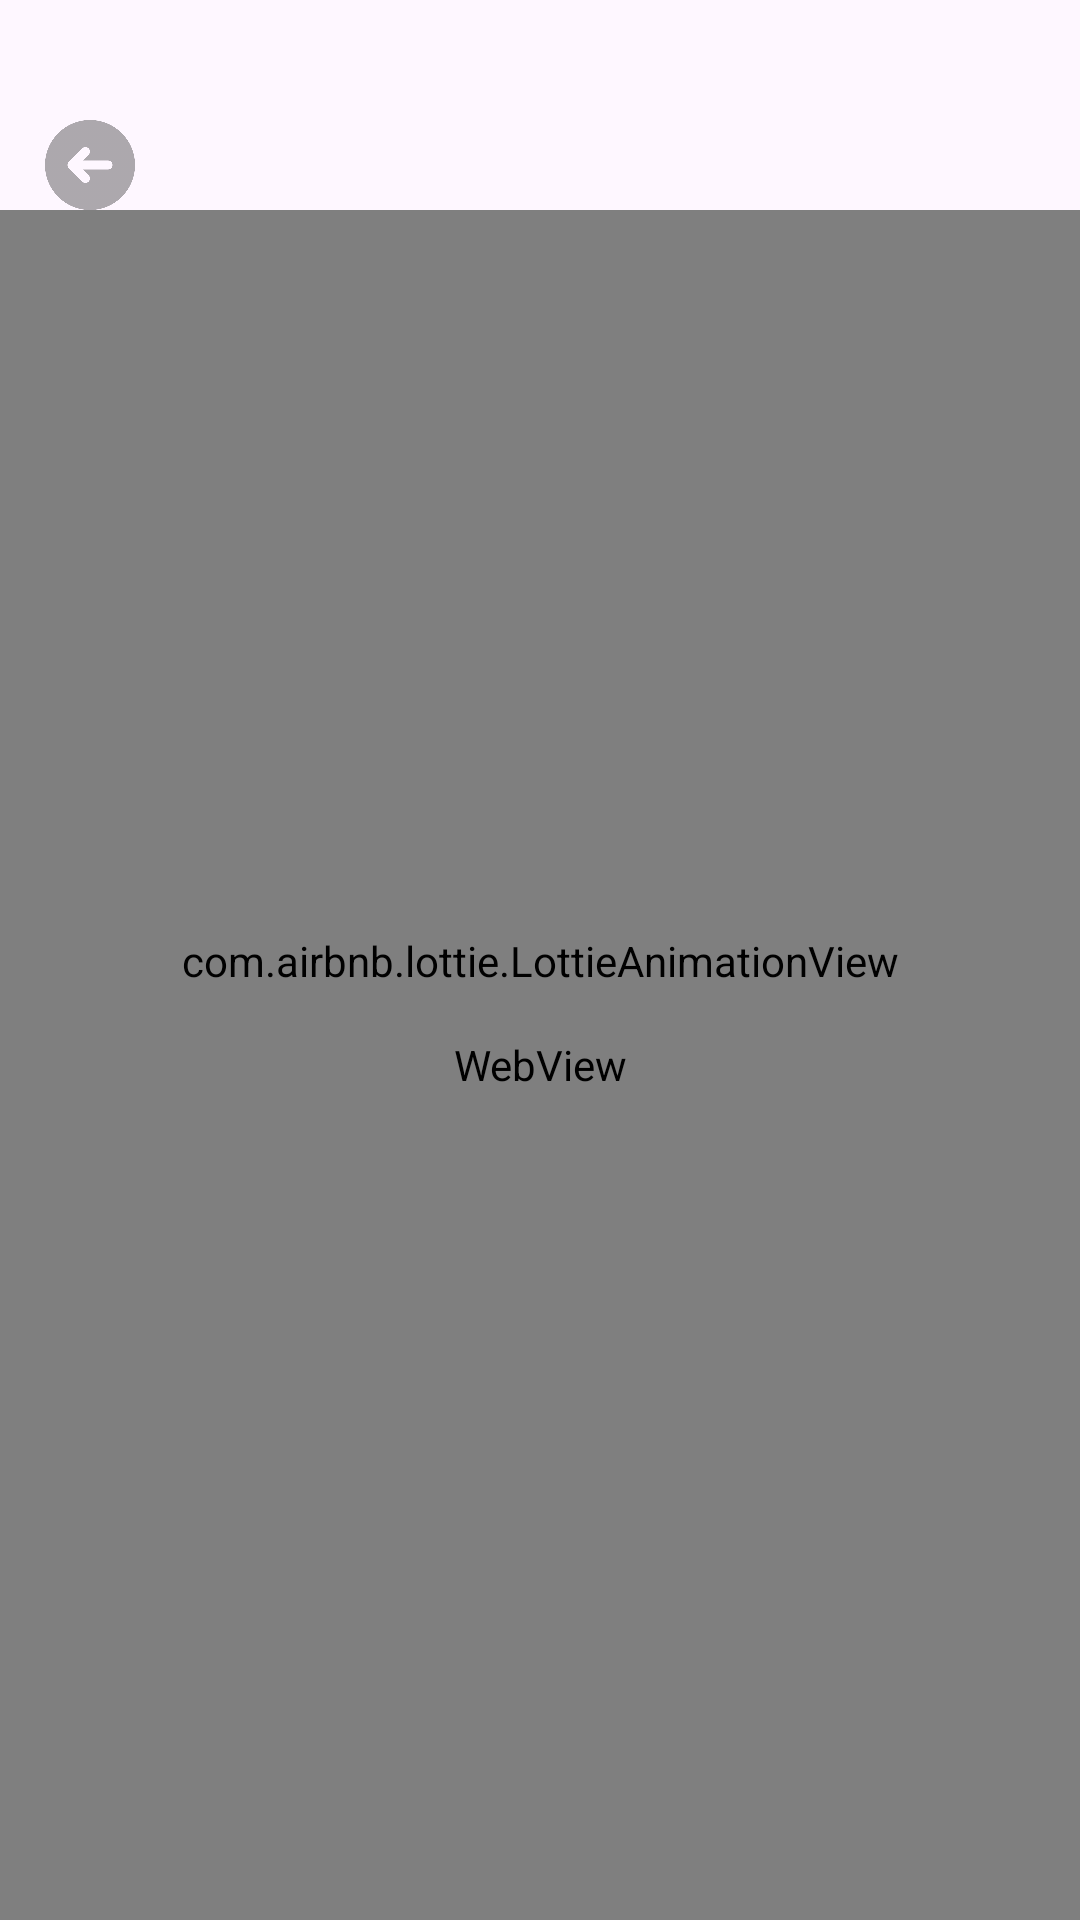

Screen size 1080*1920. Icon name, then its box in pixels as (x1, y1, x2, y2):
left arrow: (30, 120, 150, 225)
